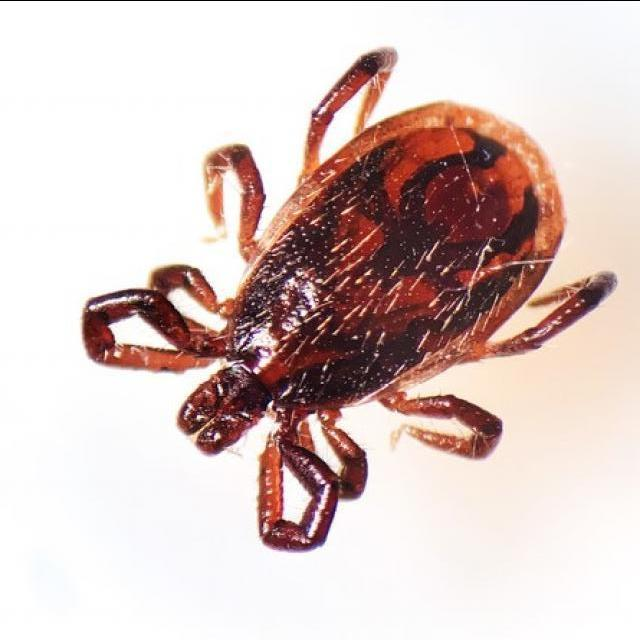Ixodes Ricinus-M: (79, 45, 601, 553)
